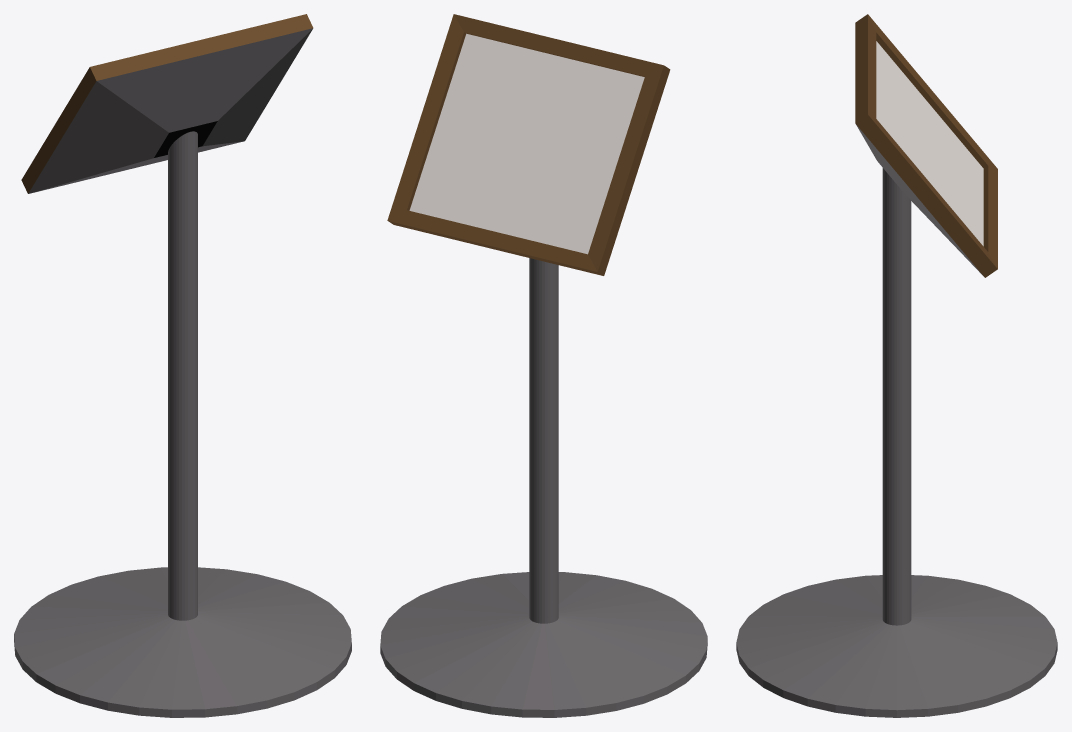
File: Info.fbx
3 renders of one model, left to right at view 1: azimuth 30°, elevation 25°; view 2: azimuth 150°, elevation 25°; view 3: azimuth 270°, elevation 25°, orthographic. The views are drawn at different scales.
Parts seen in each view (by area): view 1: Circle; view 2: Circle; view 3: Circle.
Boxes of the visible parts, x1,y1,x2,y2 form: Circle: [14, 14, 351, 717]; Circle: [380, 14, 707, 717]; Circle: [736, 14, 1057, 717].
Bounding box in the file's own units: 113 × 228 × 113.
